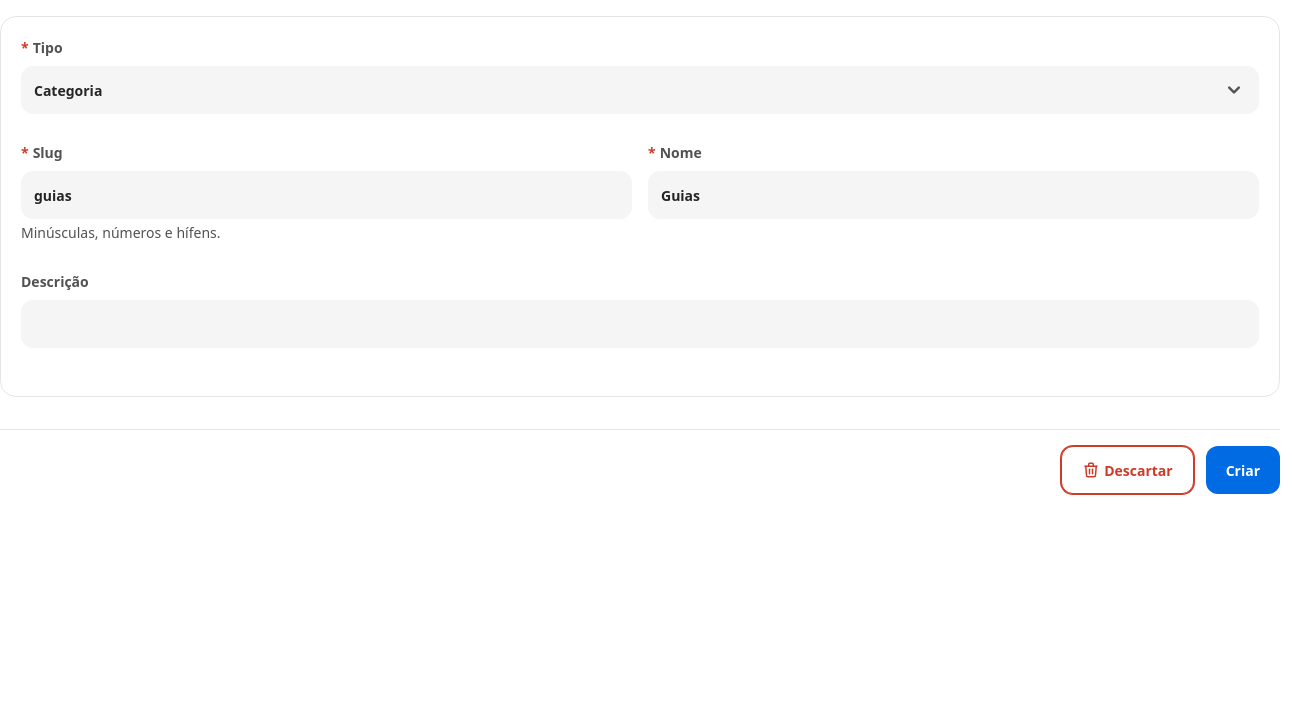
Test: formulários de entidades › taxonomia: o slug repetido volta no campo e não sai da tela
Expected: the text "Categoria" is shown, x1=34 y1=80 x2=102 y2=100
Click the button "Criar".
click(1243, 470)  # box x1=1206 y1=446 x2=1280 y2=494
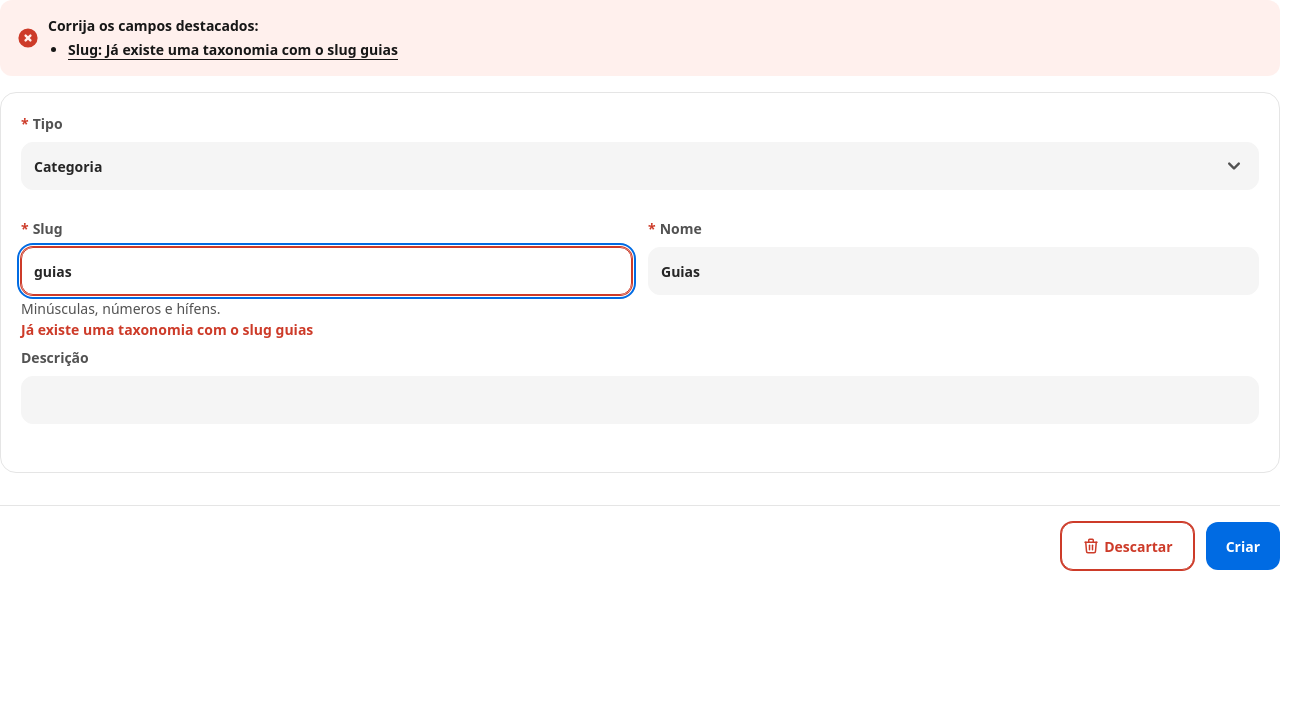
Expected: the text "Já existe uma taxonomia com o slug guias" is shown, x1=21 y1=319 x2=313 y2=340
